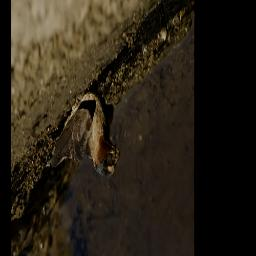Swallow: (49, 86, 119, 179)
